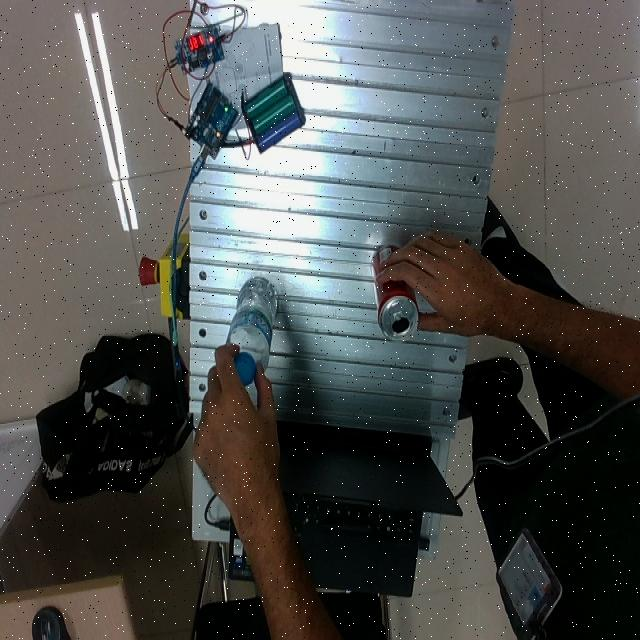coca: (370, 246, 419, 342)
lavie: (225, 277, 278, 387)
